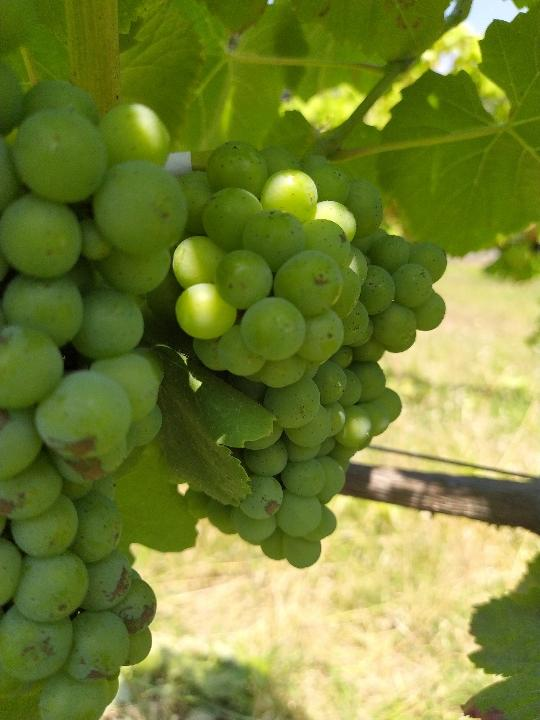grape: (186, 141, 451, 574)
